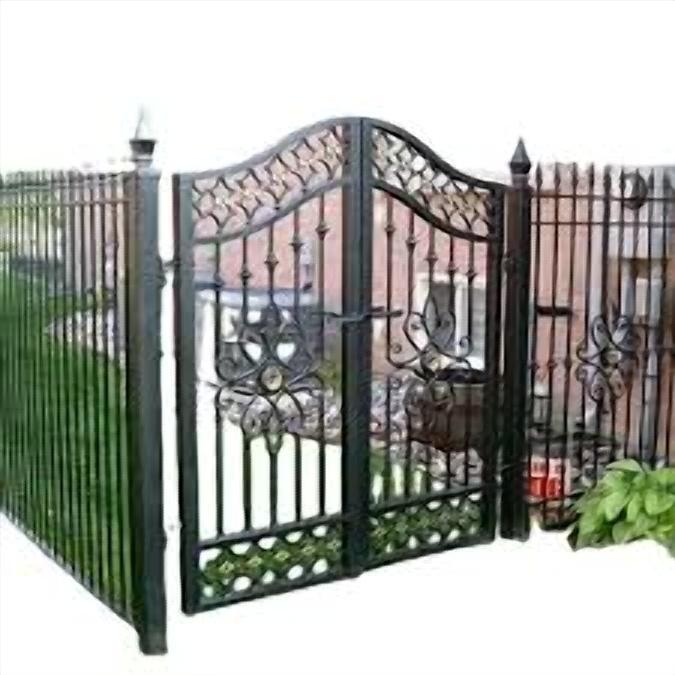Gate: (154, 116, 533, 618)
